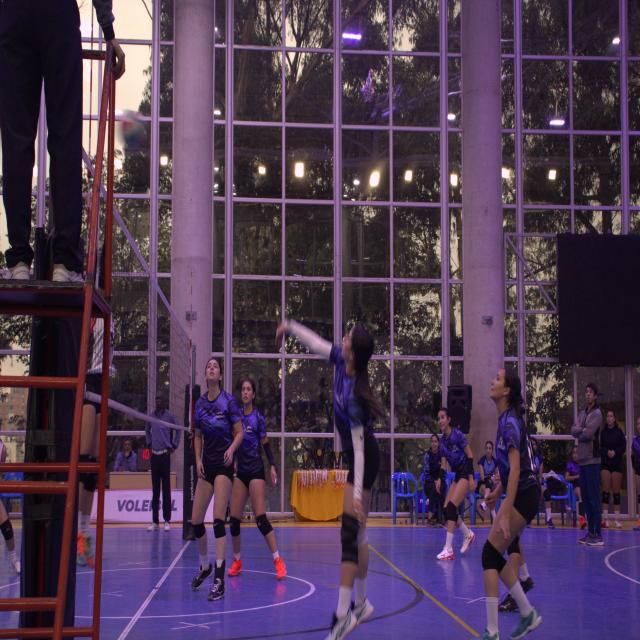volleyball: (122, 109, 144, 151)
